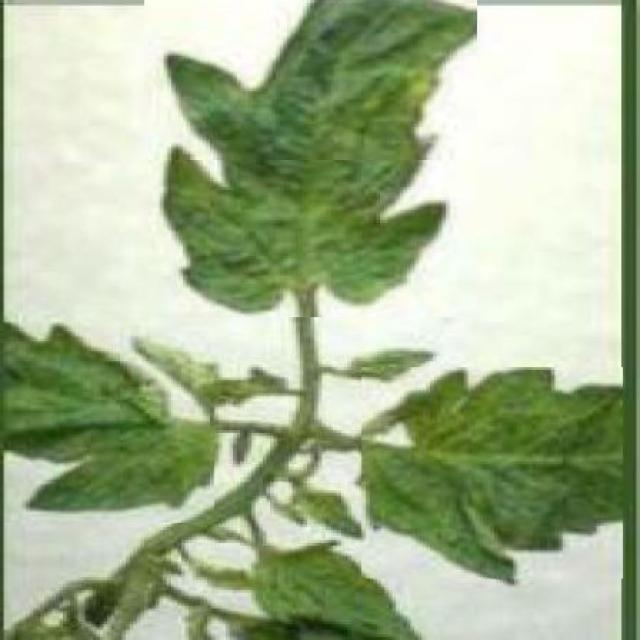Mosaic Virus: (144, 0, 477, 317), (362, 368, 625, 579), (0, 303, 214, 522)
